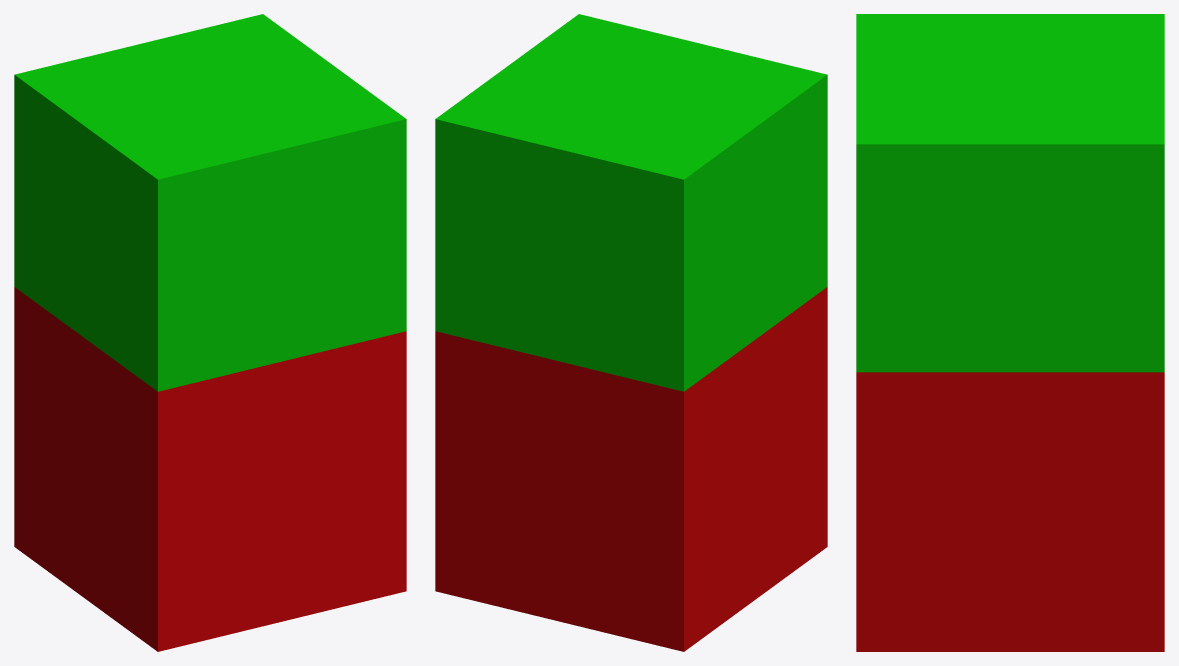
3 renders of one model, left to right at view 1: azimuth 30°, elevation 25°; view 2: azimuth 150°, elevation 25°; view 3: azimuth 270°, elevation 25°, orthographic. The views are drawn at different scales.
Parts seen in each view (by area): view 1: 立方体; view 2: 立方体; view 3: 立方体.
Boxes of the visible parts, box(x1,y1,x2,y2) form: 立方体: box(14, 14, 406, 651); 立方体: box(435, 14, 827, 651); 立方体: box(856, 14, 1164, 651).
Bounding box in the file's own units: 2 × 3.63 × 2.
